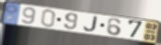0: (40, 9, 57, 28)
6: (106, 17, 123, 37)
7: (128, 19, 144, 40)
9: (62, 12, 79, 31), (21, 7, 38, 26)
J: (82, 16, 98, 33)
